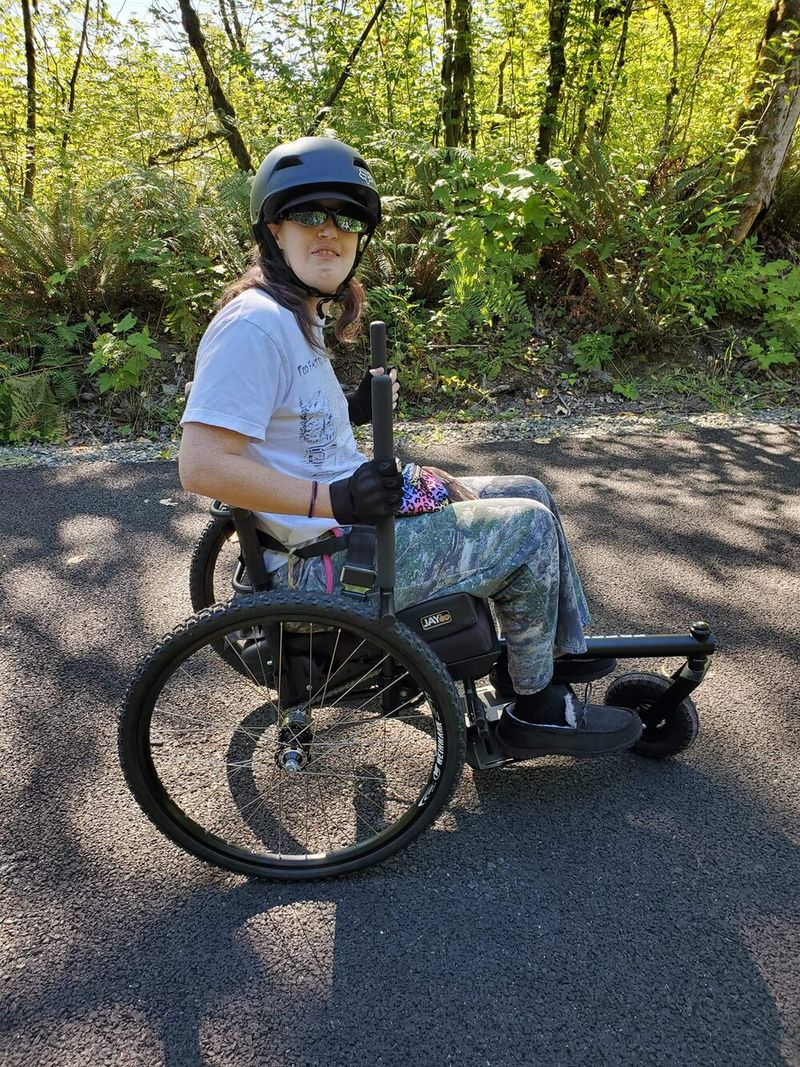wheelchair: (116, 135, 643, 881)
